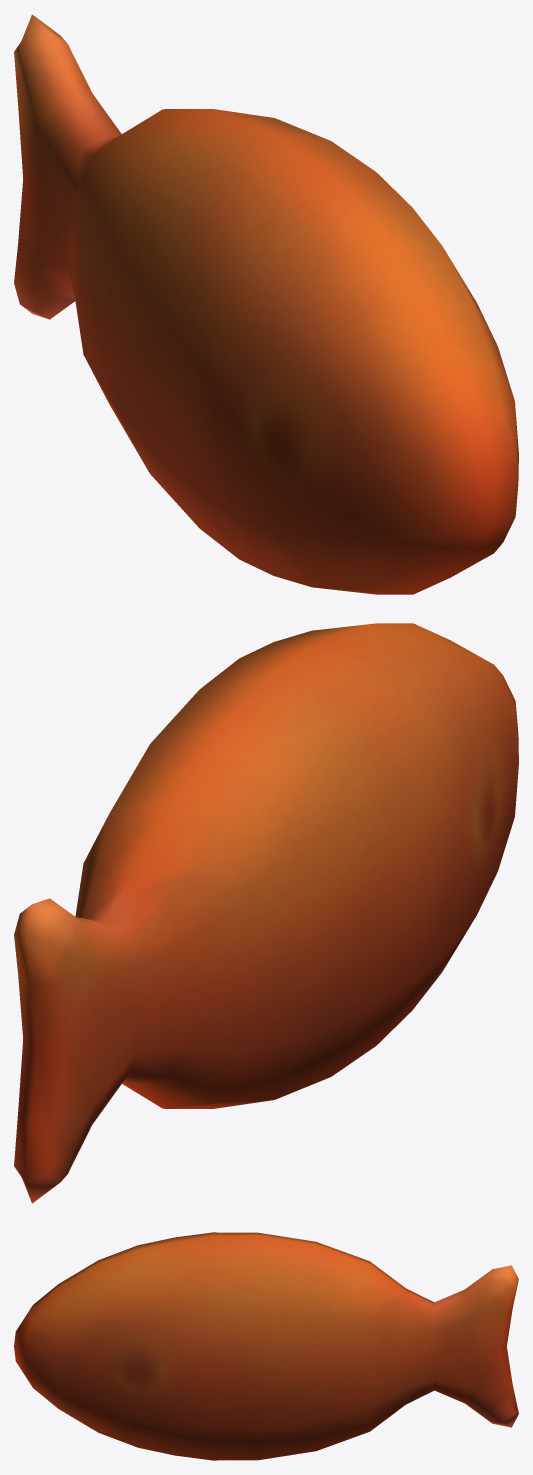
File: fish.gltf
The picture shows the model from 3 angles, top to bottom: view 1: azimuth 30°, elevation 25°; view 2: azimuth 150°, elevation 25°; view 3: azimuth 270°, elevation 25°; orthographic projection. The views are drawn at different scales.
Parts seen in each view (by area): view 1: Fish_Lowpoly.001; view 2: Fish_Lowpoly.001; view 3: Fish_Lowpoly.001.
Boxes of the visible parts, box(x1,y1,x2,y2) form: Fish_Lowpoly.001: box(14, 14, 518, 594); Fish_Lowpoly.001: box(14, 623, 518, 1203); Fish_Lowpoly.001: box(14, 1232, 518, 1460).
Bounding box in the file's own units: 0.3265 × 0.5358 × 1.11.
Materials: 1 (1 with a texture image).
